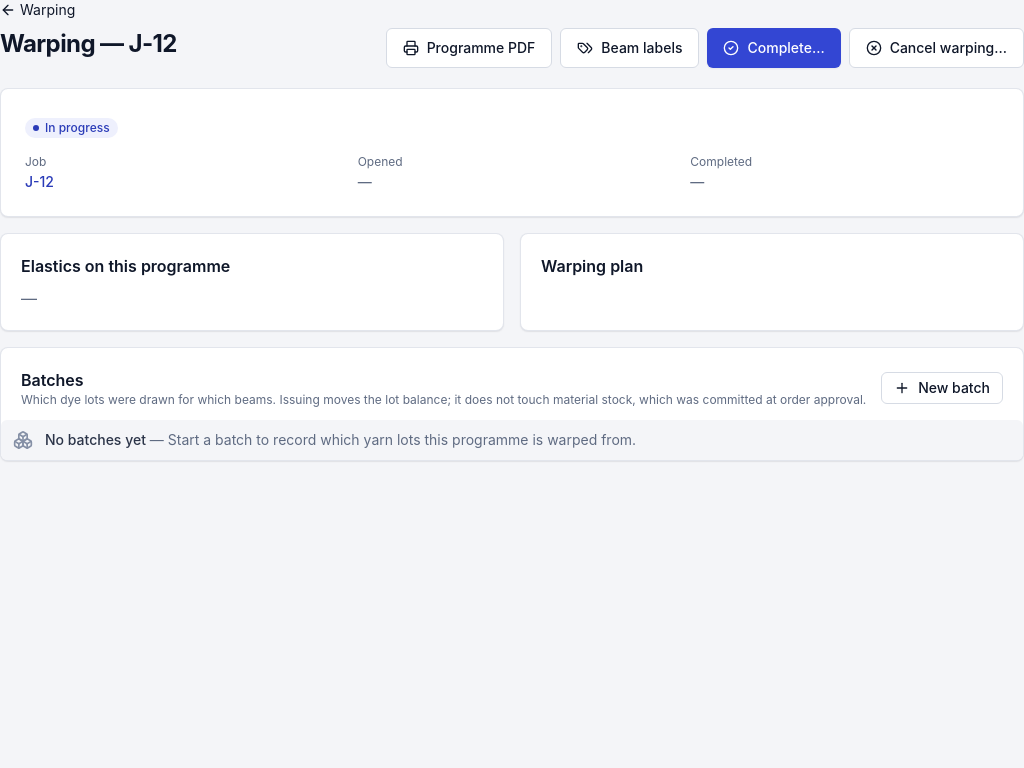
Test: completing while the yarn is still on the rack › holds the refusal on screen rather than toasting it away
Click the button "Complete…": click(774, 48) [708,28,841,68]
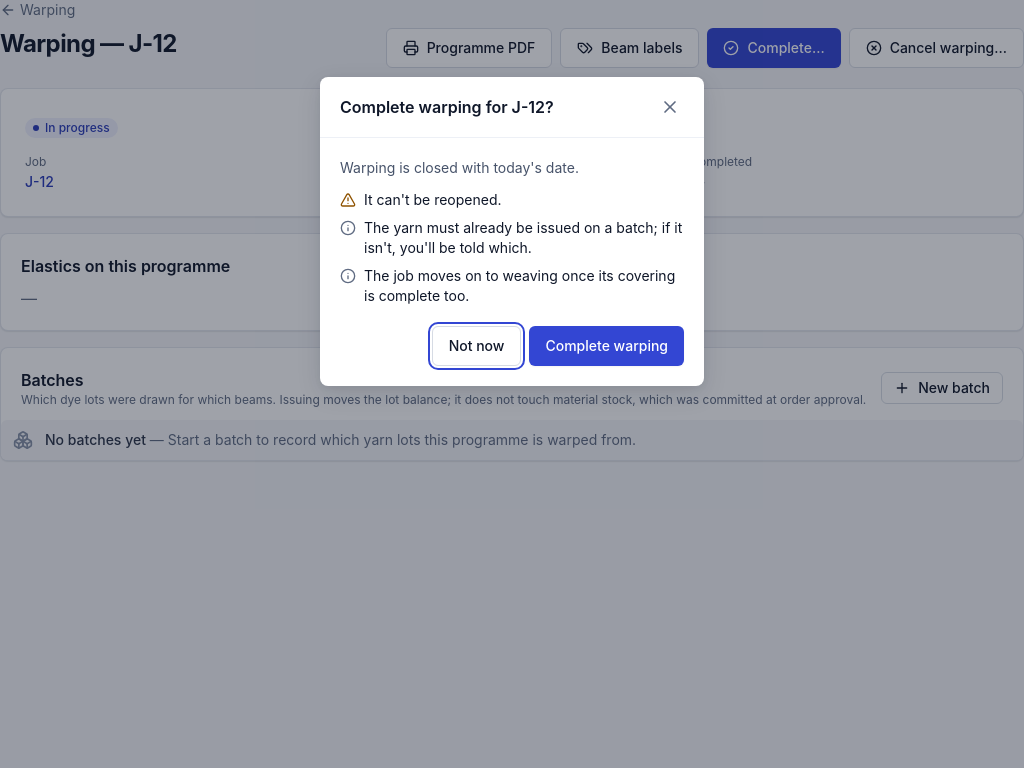
Click the button "Complete warping": click(607, 346) [529,326,684,366]
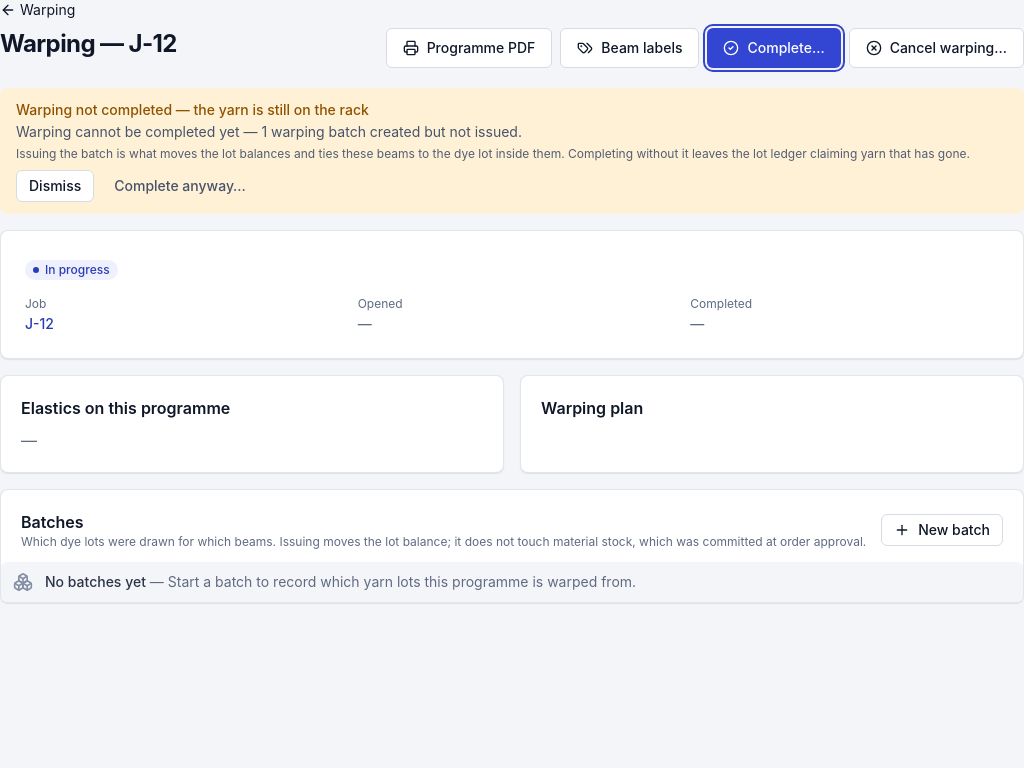
Expected: the text "Warping not completed — the yarn is still on the rack" is shown, [16,101,369,118]
Expected: the text "created but not issued" is shown, [16,123,522,140]
